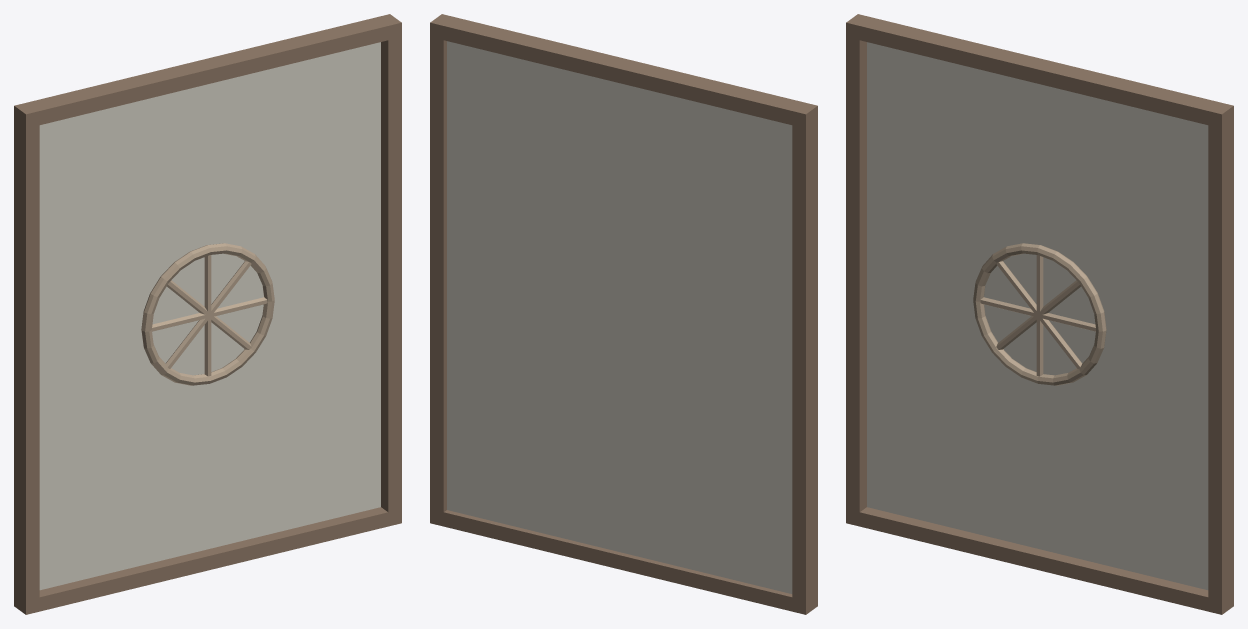
Rendered from arch_window_lattice_lotus.glb.
The picture shows the model from 3 angles, left to right: view 1: azimuth 30°, elevation 25°; view 2: azimuth 150°, elevation 25°; view 3: azimuth 330°, elevation 25°; orthographic projection.
Visible parts, largest first — view 1: arch_window_lattice_lotus/window_paper_backing_00013, arch_window_lattice_lotus/window_lotus_frame_stile_00000, arch_window_lattice_lotus/window_lotus_frame_stile_00001, arch_window_lattice_lotus/window_lotus_frame_rail_00003, arch_window_lattice_lotus/window_lotus_frame_rail_00002, arch_window_lattice_lotus/window_lotus_center_ring_00004; view 2: arch_window_lattice_lotus/window_paper_backing_00013, arch_window_lattice_lotus/window_lotus_frame_stile_00000, arch_window_lattice_lotus/window_lotus_frame_rail_00003, arch_window_lattice_lotus/window_lotus_frame_stile_00001, arch_window_lattice_lotus/window_lotus_frame_rail_00002; view 3: arch_window_lattice_lotus/window_paper_backing_00013, arch_window_lattice_lotus/window_lotus_frame_stile_00001, arch_window_lattice_lotus/window_lotus_frame_stile_00000, arch_window_lattice_lotus/window_lotus_frame_rail_00003, arch_window_lattice_lotus/window_lotus_frame_rail_00002, arch_window_lattice_lotus/window_lotus_center_ring_00004.
Boxes of the visible parts, x1,y1,x2,y2 form: arch_window_lattice_lotus/window_paper_backing_00013: (39,42,380,590); arch_window_lattice_lotus/window_lotus_frame_stile_00000: (14,102,39,614); arch_window_lattice_lotus/window_lotus_frame_stile_00001: (377,14,401,526); arch_window_lattice_lotus/window_lotus_frame_rail_00003: (28,17,388,124); arch_window_lattice_lotus/window_lotus_frame_rail_00002: (39,507,388,611); arch_window_lattice_lotus/window_lotus_center_ring_00004: (141,243,274,385); arch_window_lattice_lotus/window_paper_backing_00013: (447,41,792,593); arch_window_lattice_lotus/window_lotus_frame_stile_00000: (792,102,817,614); arch_window_lattice_lotus/window_lotus_frame_rail_00003: (443,17,803,124); arch_window_lattice_lotus/window_lotus_frame_stile_00001: (430,14,454,526); arch_window_lattice_lotus/window_lotus_frame_rail_00002: (443,510,792,611); arch_window_lattice_lotus/window_paper_backing_00013: (867,42,1208,590); arch_window_lattice_lotus/window_lotus_frame_stile_00001: (1208,102,1233,614); arch_window_lattice_lotus/window_lotus_frame_stile_00000: (846,14,870,526); arch_window_lattice_lotus/window_lotus_frame_rail_00003: (859,17,1219,124); arch_window_lattice_lotus/window_lotus_frame_rail_00002: (859,507,1208,611); arch_window_lattice_lotus/window_lotus_center_ring_00004: (973,243,1106,385).
Bounding box in the file's own units: 1.1 × 1.4 × 0.06.
